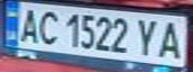1: (60, 10, 81, 48)
2: (109, 15, 133, 55), (93, 12, 115, 53)
5: (78, 11, 96, 51)
A: (154, 18, 187, 61), (15, 6, 42, 44)
C: (33, 8, 63, 46)
Y: (133, 16, 163, 58)
